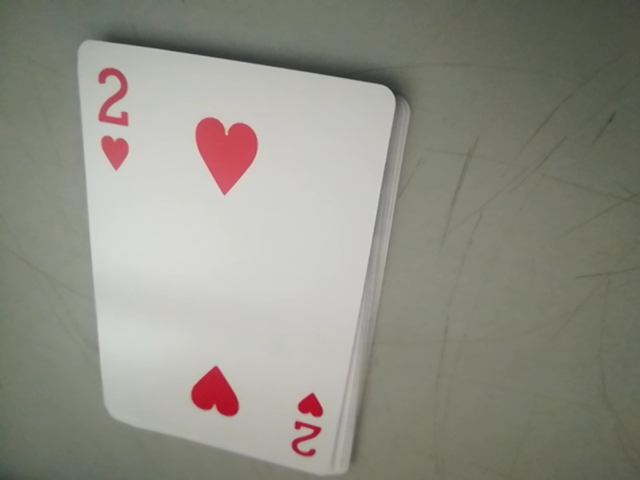hx 2: (80, 52, 143, 175), (282, 391, 337, 466)
